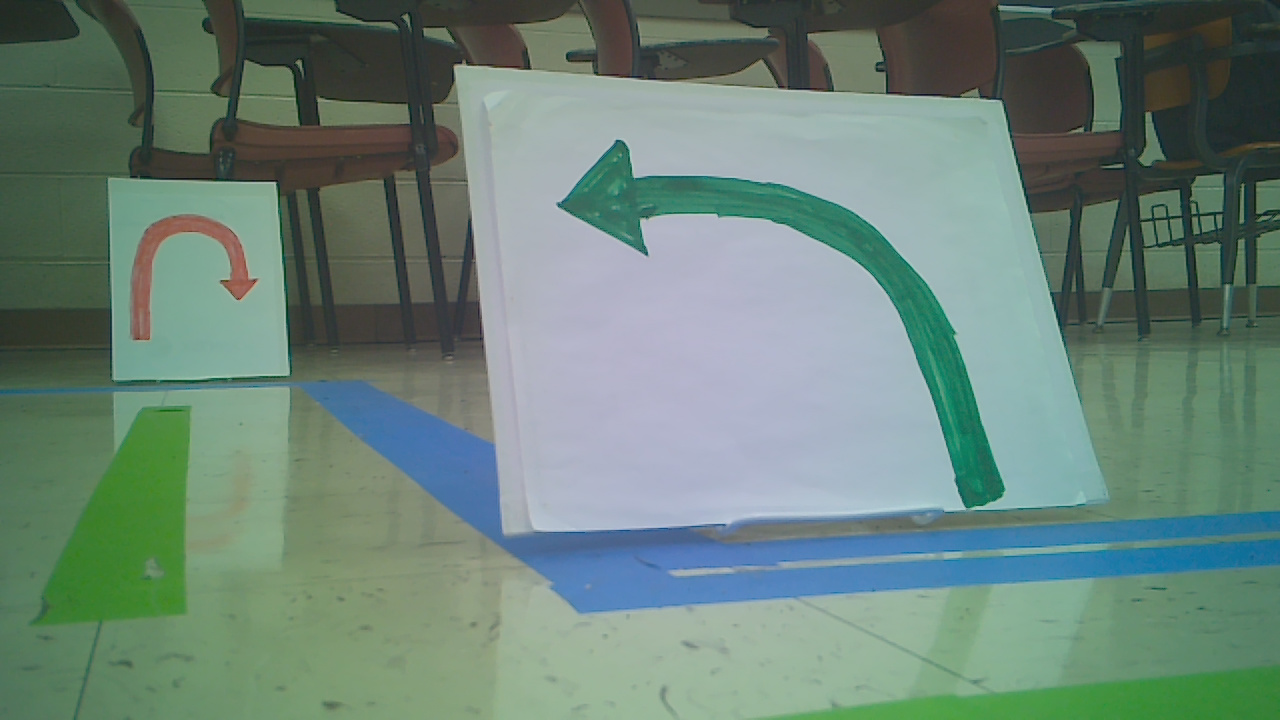greenline: (43, 406, 189, 620)
left: (547, 138, 1006, 505)
uturn: (127, 210, 256, 341)
